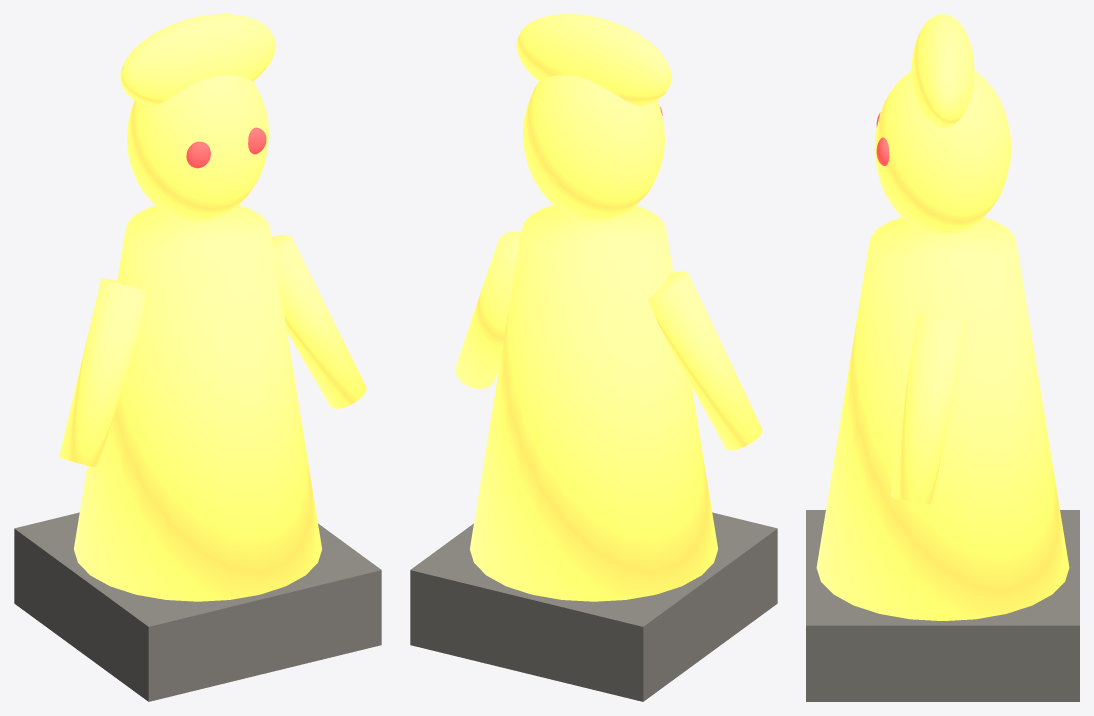
File: idolo.glb
3 renders of one model, left to right at view 1: azimuth 30°, elevation 25°; view 2: azimuth 150°, elevation 25°; view 3: azimuth 270°, elevation 25°, orthographic.
Parts seen in each view (by area): view 1: brazo_idolo, base_idolo; view 2: brazo_idolo, base_idolo; view 3: brazo_idolo, base_idolo.
Boxes of the visible parts, bbox=[...] form: brazo_idolo: bbox=[59, 14, 366, 601]; base_idolo: bbox=[14, 512, 381, 701]; brazo_idolo: bbox=[455, 14, 762, 601]; base_idolo: bbox=[410, 512, 777, 701]; brazo_idolo: bbox=[816, 14, 1069, 620]; base_idolo: bbox=[806, 510, 1079, 701].
Size of the model in its own units: 0.3366 by 0.645 by 0.26.
